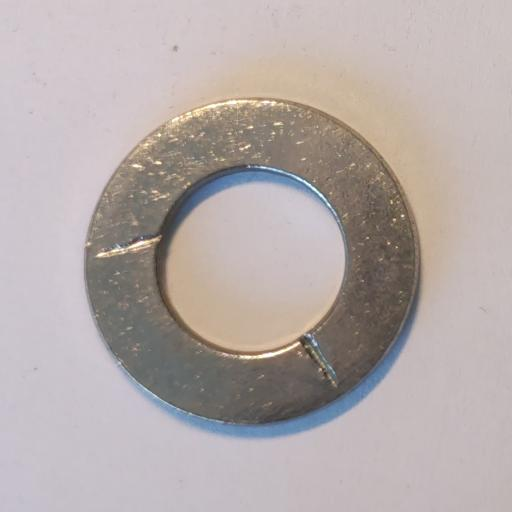scratch: (301, 333, 339, 388), (95, 235, 162, 259)
